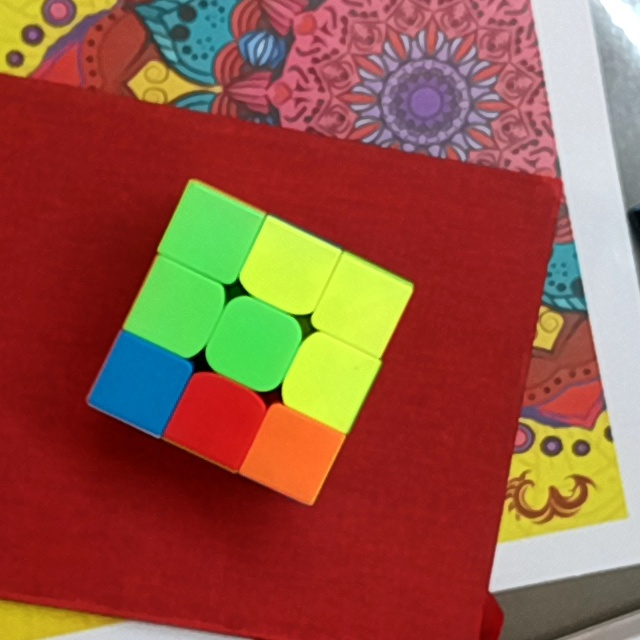tile: (182, 205, 242, 262), (263, 426, 321, 482), (146, 282, 205, 337), (222, 316, 282, 370), (110, 356, 171, 409), (258, 240, 315, 296), (187, 394, 249, 445), (335, 275, 390, 332), (300, 352, 357, 407)
